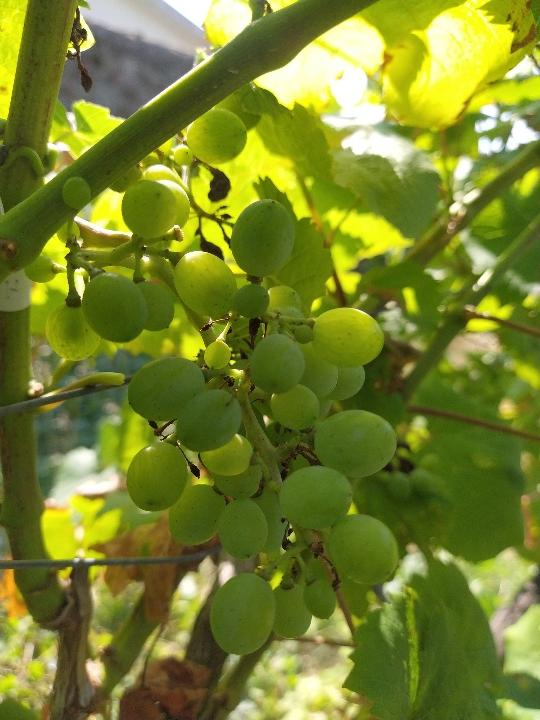grape: (21, 109, 403, 662)
